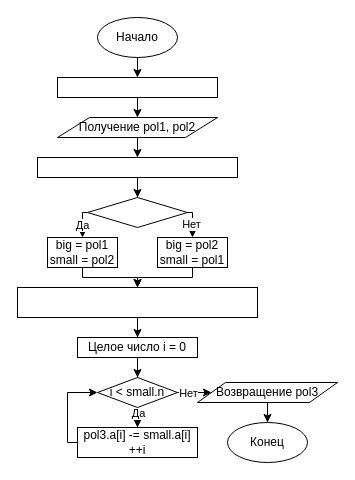
This 355x480 diagram has some shape labels left out. The shapes that lost their labels are listed below. From the top down, each one's box as (x1, y1, x2, y2) in pixels, then its label:
(56, 76, 218, 98): Объекты Polynom pol1, pol2
(36, 156, 238, 178): Объекты Polynom pol3, small, big
(86, 196, 188, 228): pol1.n > pol2.n
(16, 286, 258, 318): CreatePolynom(pol3, big.n) memcpy(pol3.a, big.a, big.n*sizeof(big.a))
